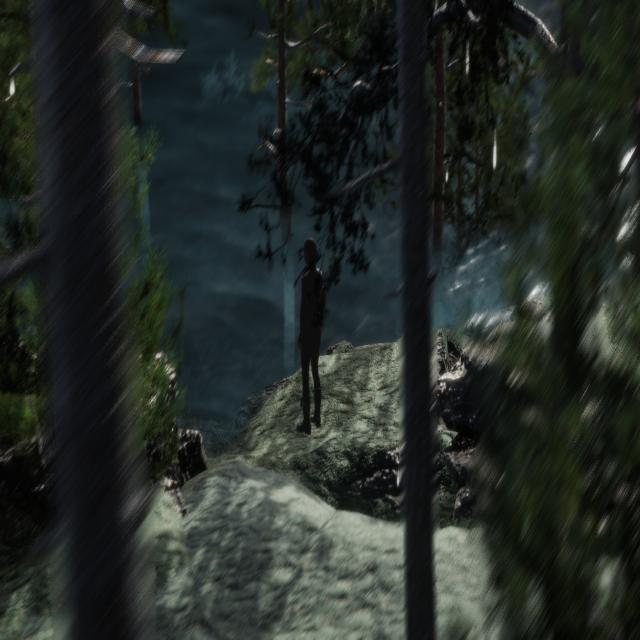Human: (289, 238, 334, 446)
